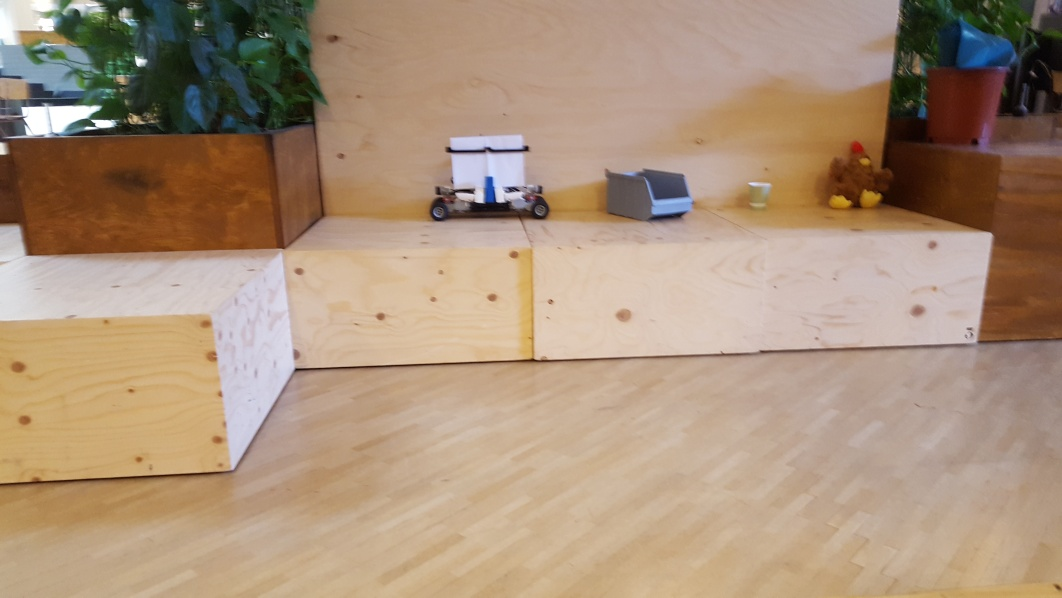car: (431, 134, 549, 222)
chicken: (827, 140, 894, 211)
cup: (745, 180, 773, 214)
tray: (600, 166, 697, 222)
